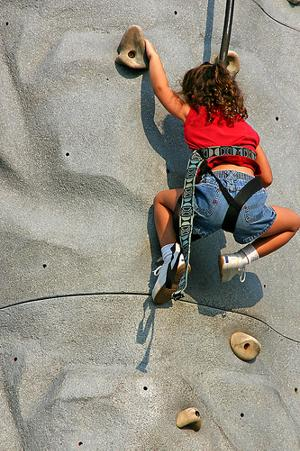person: (144, 37, 300, 309)
